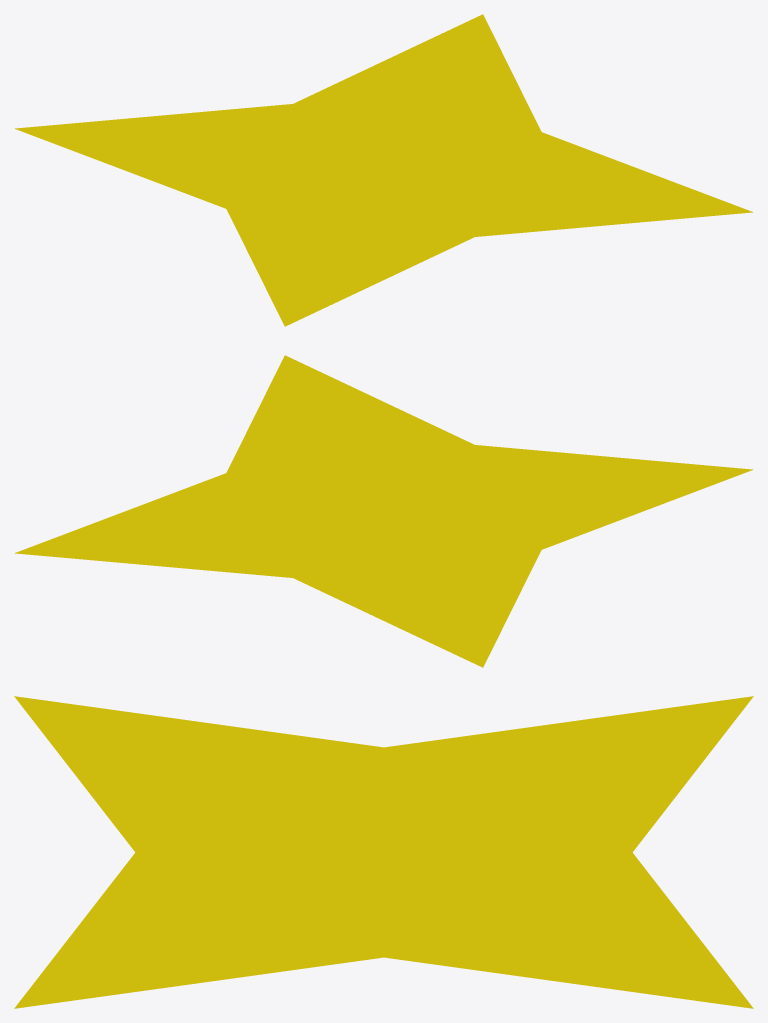
Rendered from star.fbx.
3 views of the same model, one above another, from view 1: azimuth 30°, elevation 25°; view 2: azimuth 150°, elevation 25°; view 3: azimuth 270°, elevation 25° (orthographic). The views are drawn at different scales.
Visible parts, largest first — view 1: Plane; view 2: Plane; view 3: Plane.
Part boxes in pixels (left/top/right/bottom): Plane: left=15, top=14, right=752, bottom=326; Plane: left=15, top=355, right=752, bottom=667; Plane: left=14, top=696, right=753, bottom=1008.
Size of the model in its own units: 298 by 4.85e-05 by 298.
